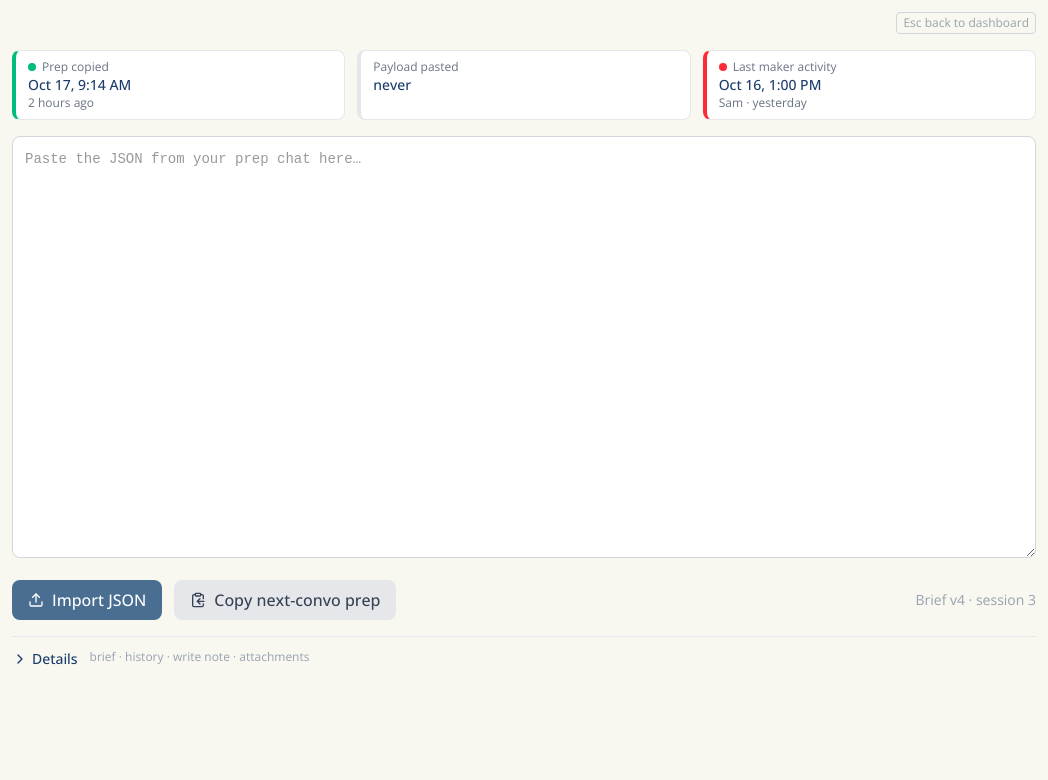
Scenario: FerryDesk › Details is collapsed by default, shows the hint, and reveals children on click
The image size is (1048, 780).
Expected: the text "brief · history · write note · attachments" is shown, [90,649,310,665]
Step 1. Click the button "Details" → [45, 659], box [12,649,78,669]
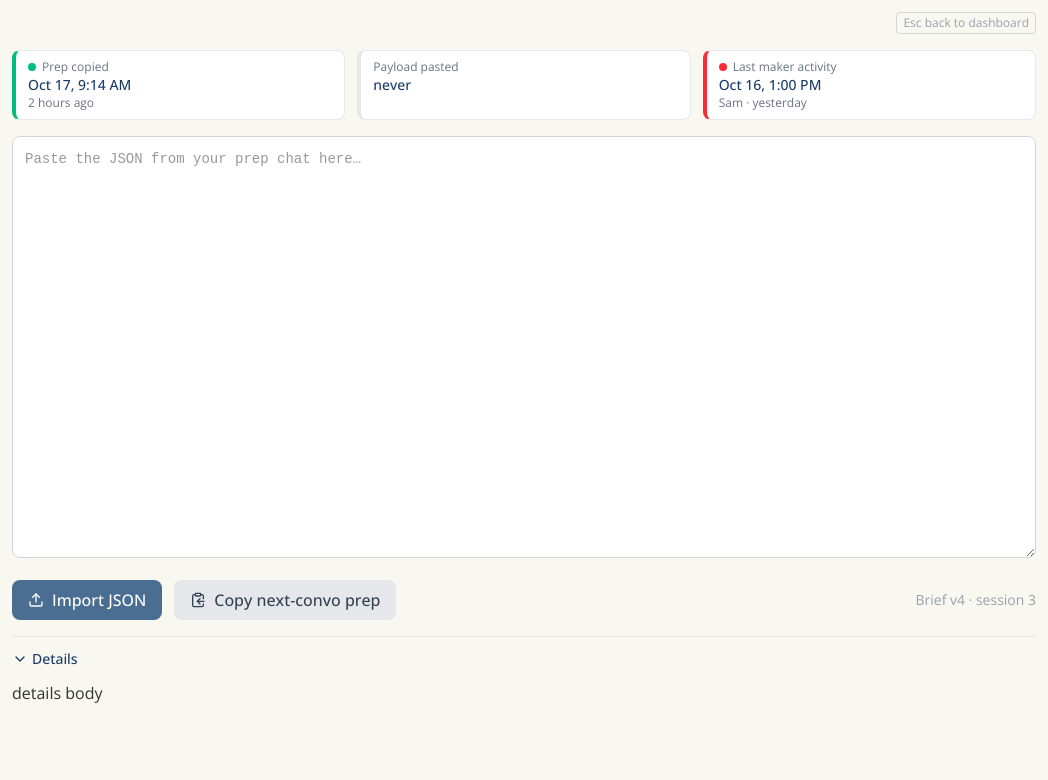
Expected: the text "brief · history · write note · attachments" is gone
